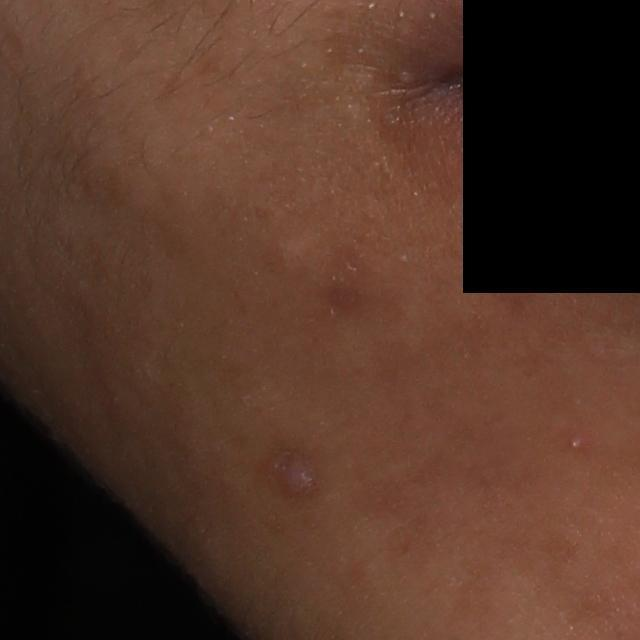papule: (273, 451, 327, 502)
